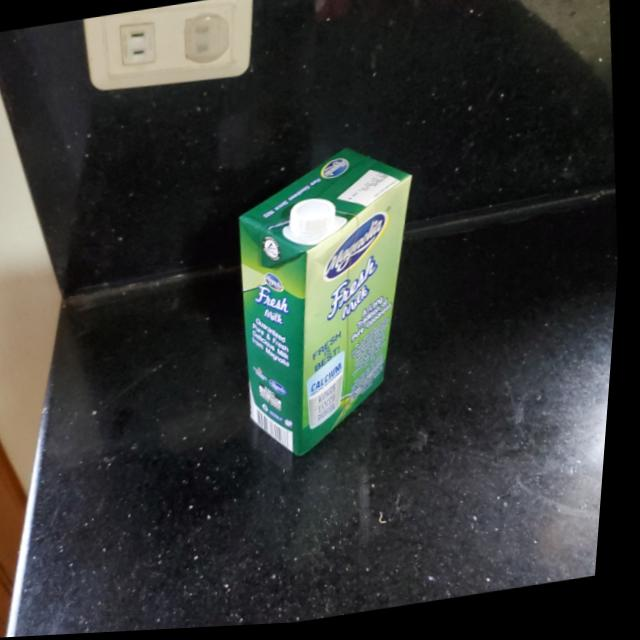milk: (225, 135, 453, 463)
